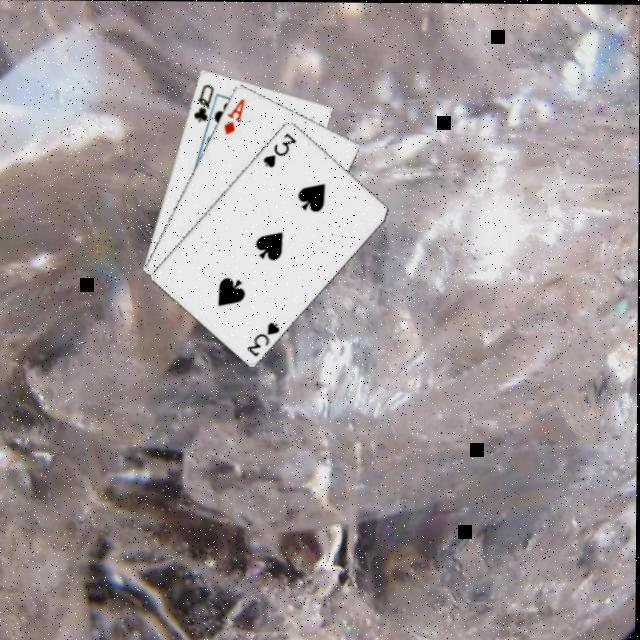3S: (244, 317, 282, 358), (260, 128, 298, 168)
AD: (220, 94, 248, 136)
QC: (190, 80, 216, 124)
